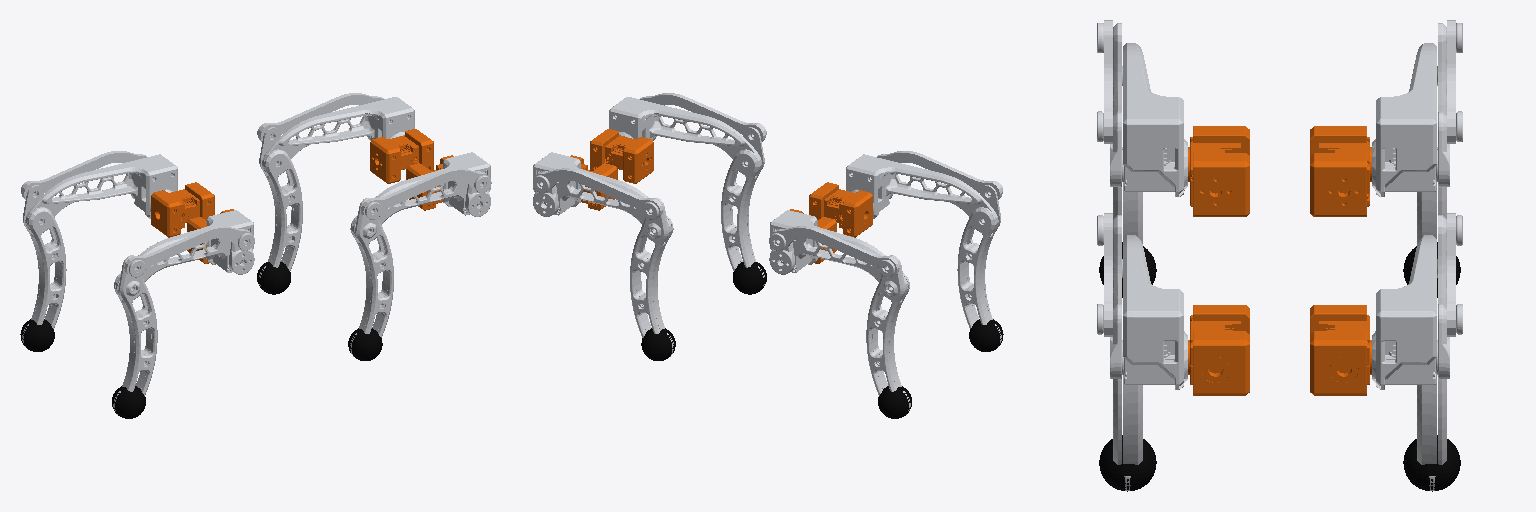
URDF robot description (micro_dog):
<?xml version="1.0"?>
<!-- micro_dog
     description:   Micro Dog quadruped, self-modelled parts inspired by Rhoban Microban (Dynamixel XL330-M288-T x12)
     source_cad:    전체.iam (Autodesk Inventor 2027)
     frame:         ROS/URDF convention: +X forward, +Y left, +Z up
     zero_pose:     CAD assembly pose = every servo at its centre (2048 ticks / 180 deg); thigh points straight back, shank points straight down
     knee_linkage:  parallelogram four-bar (crank 19.0 mm, pushrod 95.0 mm) -> exact 1:1 coupling, modelled as a single revolute joint like Go2
     generated by tools/generate_urdf.py - edit upstream sources, not this file
-->
<robot name="micro_dog">

  <material name="body_grey">   <color rgba="0.35 0.36 0.38 1.0"/></material>
  <material name="link_white">  <color rgba="0.85 0.86 0.88 1.0"/></material>
  <material name="joint_orange"><color rgba="0.90 0.45 0.10 1.0"/></material>
  <material name="foot_black">  <color rgba="0.08 0.08 0.08 1.0"/></material>

  <link name="base">
    <inertial>
      <origin xyz="-0.01785849 -0.00060131919 0.0060383162" rpy="0 0 0"/>
      <mass value="0.45564345"/>
      <inertia ixx="0.00034771271" ixy="6.2109414e-06" ixz="-2.8577858e-06" iyy="0.0011755026" iyz="3.1332265e-06" izz="0.0014109362"/>
    </inertial>
    <visual>
      <origin xyz="0 0 0" rpy="0 0 0"/>
      <geometry><mesh filename="../meshes/visual/base.stl" scale="1 1 1"/></geometry>
      <material name="body_grey"/>
    </visual>
    <collision>
      <origin xyz="-4.1633363e-17 -1.474515e-15 0.0075" rpy="0 0 0"/>
      <geometry><box size="0.247 0.09 0.048"/></geometry>
    </collision>
  </link>

  <link name="FL_hip">
    <inertial>
      <origin xyz="-0.0060982512 -0.00094346636 2.9601791e-06" rpy="0 0 0"/>
      <mass value="0.033571869"/>
      <inertia ixx="3.4319351e-06" ixy="-4.0159098e-08" ixz="7.2639564e-10" iyy="6.9371124e-06" iyz="-5.9486474e-10" izz="7.2473229e-06"/>
    </inertial>
    <visual>
      <origin xyz="0 0 0" rpy="0 0 0"/>
      <geometry><mesh filename="../meshes/visual/hip_fl.stl" scale="1 1 1"/></geometry>
      <material name="joint_orange"/>
    </visual>
    <collision>
      <origin xyz="-0.0075 -0.00049870437 7.4766582e-16" rpy="0 0 0"/>
      <geometry><box size="0.042 0.030002591 0.028"/></geometry>
    </collision>
  </link>

  <link name="FL_thigh">
    <inertial>
      <origin xyz="-0.022583808 -0.0043976799 0.012714785" rpy="0 0 0"/>
      <mass value="0.066755916"/>
      <inertia ixx="1.5608981e-05" ixy="1.0984717e-05" ixz="4.3227432e-06" iyy="8.8486759e-05" iyz="-2.734329e-06" izz="8.7026911e-05"/>
    </inertial>
    <visual>
      <origin xyz="0 0 0" rpy="0 0 0"/>
      <geometry><mesh filename="../meshes/visual/thigh_left.stl" scale="1 1 1"/></geometry>
      <material name="link_white"/>
    </visual>
    <collision>
      <origin xyz="-0.04574629 -0.0066758906 0.011587866" rpy="0 0 0"/>
      <geometry><box size="0.11950742 0.041251781 0.047218884"/></geometry>
    </collision>
  </link>

  <link name="FL_calf">
    <inertial>
      <origin xyz="0.0075692784 0.00036662655 -0.036778283" rpy="0 0 0"/>
      <mass value="0.023761353"/>
      <inertia ixx="1.9430988e-05" ixy="1.0332011e-07" ixz="2.4489248e-06" iyy="2.0373707e-05" iyz="-1.1094785e-06" izz="1.8307855e-06"/>
    </inertial>
    <visual>
      <origin xyz="0 0 0" rpy="0 0 0"/>
      <geometry><mesh filename="../meshes/visual/calf_left.stl" scale="1 1 1"/></geometry>
      <material name="link_white"/>
    </visual>
    <collision>
      <origin xyz="0.0046903639 0.003575 -0.027817675" rpy="0 0 0"/>
      <geometry><box size="0.035558253 0.0205 0.11236465"/></geometry>
    </collision>
  </link>

  <link name="FL_foot">
    <inertial>
      <origin xyz="0 0 0" rpy="0 0 0"/>
      <mass value="0.002"/>
      <inertia ixx="9.9541667e-08" ixy="0" ixz="0" iyy="1.69e-07" iyz="0" izz="9.9541667e-08"/>
    </inertial>
    <visual>
      <origin xyz="0 0 0" rpy="0 0 0"/>
      <geometry><sphere radius="0.013"/></geometry>
      <material name="foot_black"/>
    </visual>
    <collision>
      <origin xyz="0 0 0" rpy="0 0 0"/>
      <geometry><sphere radius="0.013"/></geometry>
    </collision>
  </link>

  <link name="FR_hip">
    <inertial>
      <origin xyz="-0.0060982512 0.00094346636 -2.9601791e-06" rpy="0 0 0"/>
      <mass value="0.033571869"/>
      <inertia ixx="3.4319351e-06" ixy="4.0159098e-08" ixz="-7.2639564e-10" iyy="6.9371124e-06" iyz="-5.9486474e-10" izz="7.2473229e-06"/>
    </inertial>
    <visual>
      <origin xyz="0 0 0" rpy="0 0 0"/>
      <geometry><mesh filename="../meshes/visual/hip_fr.stl" scale="1 1 1"/></geometry>
      <material name="joint_orange"/>
    </visual>
    <collision>
      <origin xyz="-0.0075 0.00049870437 7.0169565e-16" rpy="0 0 0"/>
      <geometry><box size="0.042 0.030002591 0.028"/></geometry>
    </collision>
  </link>

  <link name="FR_thigh">
    <inertial>
      <origin xyz="-0.022587077 0.0043976796 0.012714785" rpy="0 0 0"/>
      <mass value="0.066755916"/>
      <inertia ixx="1.5608981e-05" ixy="-1.0984638e-05" ixz="4.3228932e-06" iyy="8.8476908e-05" iyz="2.7343289e-06" izz="8.7017059e-05"/>
    </inertial>
    <visual>
      <origin xyz="0 0 0" rpy="0 0 0"/>
      <geometry><mesh filename="../meshes/visual/thigh_right.stl" scale="1 1 1"/></geometry>
      <material name="link_white"/>
    </visual>
    <collision>
      <origin xyz="-0.04574629 0.0066758906 0.011587866" rpy="0 0 0"/>
      <geometry><box size="0.11950742 0.041251781 0.047218884"/></geometry>
    </collision>
  </link>

  <link name="FR_calf">
    <inertial>
      <origin xyz="0.0075692784 -0.00079929557 -0.036778283" rpy="0 0 0"/>
      <mass value="0.023761353"/>
      <inertia ixx="1.9420544e-05" ixy="-1.1711718e-07" ixz="2.4489248e-06" iyy="2.0373707e-05" iyz="4.1382204e-07" izz="1.820341e-06"/>
    </inertial>
    <visual>
      <origin xyz="0 0 0" rpy="0 0 0"/>
      <geometry><mesh filename="../meshes/visual/calf_right.stl" scale="1 1 1"/></geometry>
      <material name="link_white"/>
    </visual>
    <collision>
      <origin xyz="0.0046903639 -0.003575 -0.027573846" rpy="0 0 0"/>
      <geometry><box size="0.035558253 0.0205 0.11285231"/></geometry>
    </collision>
  </link>

  <link name="FR_foot">
    <inertial>
      <origin xyz="0 0 0" rpy="0 0 0"/>
      <mass value="0.002"/>
      <inertia ixx="9.9541667e-08" ixy="0" ixz="0" iyy="1.69e-07" iyz="0" izz="9.9541667e-08"/>
    </inertial>
    <visual>
      <origin xyz="0 0 0" rpy="0 0 0"/>
      <geometry><sphere radius="0.013"/></geometry>
      <material name="foot_black"/>
    </visual>
    <collision>
      <origin xyz="0 0 0" rpy="0 0 0"/>
      <geometry><sphere radius="0.013"/></geometry>
    </collision>
  </link>

  <link name="RL_hip">
    <inertial>
      <origin xyz="0.0060982512 -0.00094346636 -2.9601791e-06" rpy="0 0 0"/>
      <mass value="0.033571869"/>
      <inertia ixx="3.4319351e-06" ixy="4.0159098e-08" ixz="7.2639564e-10" iyy="6.9371124e-06" iyz="5.9486474e-10" izz="7.2473229e-06"/>
    </inertial>
    <visual>
      <origin xyz="0 0 0" rpy="0 0 0"/>
      <geometry><mesh filename="../meshes/visual/hip_rl.stl" scale="1 1 1"/></geometry>
      <material name="joint_orange"/>
    </visual>
    <collision>
      <origin xyz="0.0075 -0.00049870437 3.4781206e-16" rpy="0 0 0"/>
      <geometry><box size="0.042 0.030002591 0.028"/></geometry>
    </collision>
  </link>

  <link name="RL_thigh">
    <inertial>
      <origin xyz="-0.022583808 -0.0043976799 0.012714785" rpy="0 0 0"/>
      <mass value="0.066755916"/>
      <inertia ixx="1.5608981e-05" ixy="1.0984717e-05" ixz="4.3227432e-06" iyy="8.8486759e-05" iyz="-2.734329e-06" izz="8.7026911e-05"/>
    </inertial>
    <visual>
      <origin xyz="0 0 0" rpy="0 0 0"/>
      <geometry><mesh filename="../meshes/visual/thigh_left.stl" scale="1 1 1"/></geometry>
      <material name="link_white"/>
    </visual>
    <collision>
      <origin xyz="-0.04574629 -0.0066758906 0.011587866" rpy="0 0 0"/>
      <geometry><box size="0.11950742 0.041251781 0.047218884"/></geometry>
    </collision>
  </link>

  <link name="RL_calf">
    <inertial>
      <origin xyz="0.0075692784 0.00036662655 -0.036778283" rpy="0 0 0"/>
      <mass value="0.023761353"/>
      <inertia ixx="1.9430988e-05" ixy="1.0332011e-07" ixz="2.4489248e-06" iyy="2.0373707e-05" iyz="-1.1094785e-06" izz="1.8307855e-06"/>
    </inertial>
    <visual>
      <origin xyz="0 0 0" rpy="0 0 0"/>
      <geometry><mesh filename="../meshes/visual/calf_left.stl" scale="1 1 1"/></geometry>
      <material name="link_white"/>
    </visual>
    <collision>
      <origin xyz="0.0046903639 0.003575 -0.027817675" rpy="0 0 0"/>
      <geometry><box size="0.035558253 0.0205 0.11236465"/></geometry>
    </collision>
  </link>

  <link name="RL_foot">
    <inertial>
      <origin xyz="0 0 0" rpy="0 0 0"/>
      <mass value="0.002"/>
      <inertia ixx="9.9541667e-08" ixy="0" ixz="0" iyy="1.69e-07" iyz="0" izz="9.9541667e-08"/>
    </inertial>
    <visual>
      <origin xyz="0 0 0" rpy="0 0 0"/>
      <geometry><sphere radius="0.013"/></geometry>
      <material name="foot_black"/>
    </visual>
    <collision>
      <origin xyz="0 0 0" rpy="0 0 0"/>
      <geometry><sphere radius="0.013"/></geometry>
    </collision>
  </link>

  <link name="RR_hip">
    <inertial>
      <origin xyz="0.0060982512 0.00094346636 2.9601791e-06" rpy="0 0 0"/>
      <mass value="0.033571869"/>
      <inertia ixx="3.4319351e-06" ixy="-4.0159098e-08" ixz="-7.2639564e-10" iyy="6.9371124e-06" iyz="5.9486474e-10" izz="7.2473229e-06"/>
    </inertial>
    <visual>
      <origin xyz="0 0 0" rpy="0 0 0"/>
      <geometry><mesh filename="../meshes/visual/hip_rr.stl" scale="1 1 1"/></geometry>
      <material name="joint_orange"/>
    </visual>
    <collision>
      <origin xyz="0.0075 0.00049870437 3.989864e-16" rpy="0 0 0"/>
      <geometry><box size="0.042 0.030002591 0.028"/></geometry>
    </collision>
  </link>

  <link name="RR_thigh">
    <inertial>
      <origin xyz="-0.022587077 0.0043976796 0.012714785" rpy="0 0 0"/>
      <mass value="0.066755916"/>
      <inertia ixx="1.5608981e-05" ixy="-1.0984638e-05" ixz="4.3228932e-06" iyy="8.8476908e-05" iyz="2.7343289e-06" izz="8.7017059e-05"/>
    </inertial>
    <visual>
      <origin xyz="0 0 0" rpy="0 0 0"/>
      <geometry><mesh filename="../meshes/visual/thigh_right.stl" scale="1 1 1"/></geometry>
      <material name="link_white"/>
    </visual>
    <collision>
      <origin xyz="-0.04574629 0.0066758906 0.011587866" rpy="0 0 0"/>
      <geometry><box size="0.11950742 0.041251781 0.047218884"/></geometry>
    </collision>
  </link>

  <link name="RR_calf">
    <inertial>
      <origin xyz="0.0075692784 -0.00079929557 -0.036778283" rpy="0 0 0"/>
      <mass value="0.023761353"/>
      <inertia ixx="1.9420544e-05" ixy="-1.1711718e-07" ixz="2.4489248e-06" iyy="2.0373707e-05" iyz="4.1382204e-07" izz="1.820341e-06"/>
    </inertial>
    <visual>
      <origin xyz="0 0 0" rpy="0 0 0"/>
      <geometry><mesh filename="../meshes/visual/calf_right.stl" scale="1 1 1"/></geometry>
      <material name="link_white"/>
    </visual>
    <collision>
      <origin xyz="0.0046903639 -0.003575 -0.027573846" rpy="0 0 0"/>
      <geometry><box size="0.035558253 0.0205 0.11285231"/></geometry>
    </collision>
  </link>

  <link name="RR_foot">
    <inertial>
      <origin xyz="0 0 0" rpy="0 0 0"/>
      <mass value="0.002"/>
      <inertia ixx="9.9541667e-08" ixy="0" ixz="0" iyy="1.69e-07" iyz="0" izz="9.9541667e-08"/>
    </inertial>
    <visual>
      <origin xyz="0 0 0" rpy="0 0 0"/>
      <geometry><sphere radius="0.013"/></geometry>
      <material name="foot_black"/>
    </visual>
    <collision>
      <origin xyz="0 0 0" rpy="0 0 0"/>
      <geometry><sphere radius="0.013"/></geometry>
    </collision>
  </link>

  <joint name="FL_hip_joint" type="revolute">
    <parent link="base"/>
    <child link="FL_hip"/>
    <origin xyz="0.103 0.029 0" rpy="0 0 0"/>
    <axis xyz="1 0 0"/>
    <limit lower="-1.5554565" upper="0.86056322" effort="0.64052362" velocity="20.217834"/>
    <dynamics damping="0.0053596683" friction="0.0047711832"/>
  </joint>

  <joint name="FL_thigh_joint" type="revolute">
    <parent link="FL_hip"/>
    <child link="FL_thigh"/>
    <origin xyz="0 0.0398 0" rpy="0 0 0"/>
    <axis xyz="0 1 0"/>
    <limit lower="-1.5278449" upper="0.85902924" effort="0.64052362" velocity="20.217834"/>
    <dynamics damping="0.0053596683" friction="0.0047711832"/>
  </joint>

  <joint name="FL_calf_joint" type="revolute">
    <parent link="FL_thigh"/>
    <child link="FL_calf"/>
    <origin xyz="-0.095 0 0" rpy="0 0 0"/>
    <axis xyz="0 1 0"/>
    <limit lower="-1.1013982" upper="1.2072429" effort="0.64052362" velocity="20.217834"/>
    <dynamics damping="0.0053596683" friction="0.0047711832"/>
  </joint>

  <joint name="FL_foot_joint" type="fixed">
    <parent link="FL_calf"/>
    <child link="FL_foot"/>
    <origin xyz="0 0 -0.097" rpy="0 0 0"/>
  </joint>

  <joint name="FR_hip_joint" type="revolute">
    <parent link="base"/>
    <child link="FR_hip"/>
    <origin xyz="0.103 -0.029 0" rpy="0 0 0"/>
    <axis xyz="1 0 0"/>
    <limit lower="-0.86056322" upper="1.5554565" effort="0.64052362" velocity="20.217834"/>
    <dynamics damping="0.0053596683" friction="0.0047711832"/>
  </joint>

  <joint name="FR_thigh_joint" type="revolute">
    <parent link="FR_hip"/>
    <child link="FR_thigh"/>
    <origin xyz="0 -0.0398 0" rpy="0 0 0"/>
    <axis xyz="0 1 0"/>
    <limit lower="-1.5278449" upper="0.85902924" effort="0.64052362" velocity="20.217834"/>
    <dynamics damping="0.0053596683" friction="0.0047711832"/>
  </joint>

  <joint name="FR_calf_joint" type="revolute">
    <parent link="FR_thigh"/>
    <child link="FR_calf"/>
    <origin xyz="-0.095 0 0" rpy="0 0 0"/>
    <axis xyz="0 1 0"/>
    <limit lower="-1.1013982" upper="1.2072429" effort="0.64052362" velocity="20.217834"/>
    <dynamics damping="0.0053596683" friction="0.0047711832"/>
  </joint>

  <joint name="FR_foot_joint" type="fixed">
    <parent link="FR_calf"/>
    <child link="FR_foot"/>
    <origin xyz="0 0 -0.097" rpy="0 0 0"/>
  </joint>

  <joint name="RL_hip_joint" type="revolute">
    <parent link="base"/>
    <child link="RL_hip"/>
    <origin xyz="-0.103 0.029 0" rpy="0 0 0"/>
    <axis xyz="1 0 0"/>
    <limit lower="-1.5554565" upper="0.86056322" effort="0.64052362" velocity="20.217834"/>
    <dynamics damping="0.0053596683" friction="0.0047711832"/>
  </joint>

  <joint name="RL_thigh_joint" type="revolute">
    <parent link="RL_hip"/>
    <child link="RL_thigh"/>
    <origin xyz="0 0.0398 0" rpy="0 0 0"/>
    <axis xyz="0 1 0"/>
    <limit lower="-1.5278449" upper="0.85902924" effort="0.64052362" velocity="20.217834"/>
    <dynamics damping="0.0053596683" friction="0.0047711832"/>
  </joint>

  <joint name="RL_calf_joint" type="revolute">
    <parent link="RL_thigh"/>
    <child link="RL_calf"/>
    <origin xyz="-0.095 0 0" rpy="0 0 0"/>
    <axis xyz="0 1 0"/>
    <limit lower="-1.1013982" upper="1.2072429" effort="0.64052362" velocity="20.217834"/>
    <dynamics damping="0.0053596683" friction="0.0047711832"/>
  </joint>

  <joint name="RL_foot_joint" type="fixed">
    <parent link="RL_calf"/>
    <child link="RL_foot"/>
    <origin xyz="0 0 -0.097" rpy="0 0 0"/>
  </joint>

  <joint name="RR_hip_joint" type="revolute">
    <parent link="base"/>
    <child link="RR_hip"/>
    <origin xyz="-0.103 -0.029 0" rpy="0 0 0"/>
    <axis xyz="1 0 0"/>
    <limit lower="-0.86056322" upper="1.5554565" effort="0.64052362" velocity="20.217834"/>
    <dynamics damping="0.0053596683" friction="0.0047711832"/>
  </joint>

  <joint name="RR_thigh_joint" type="revolute">
    <parent link="RR_hip"/>
    <child link="RR_thigh"/>
    <origin xyz="0 -0.0398 0" rpy="0 0 0"/>
    <axis xyz="0 1 0"/>
    <limit lower="-1.5278449" upper="0.85902924" effort="0.64052362" velocity="20.217834"/>
    <dynamics damping="0.0053596683" friction="0.0047711832"/>
  </joint>

  <joint name="RR_calf_joint" type="revolute">
    <parent link="RR_thigh"/>
    <child link="RR_calf"/>
    <origin xyz="-0.095 0 0" rpy="0 0 0"/>
    <axis xyz="0 1 0"/>
    <limit lower="-1.1013982" upper="1.2072429" effort="0.64052362" velocity="20.217834"/>
    <dynamics damping="0.0053596683" friction="0.0047711832"/>
  </joint>

  <joint name="RR_foot_joint" type="fixed">
    <parent link="RR_calf"/>
    <child link="RR_foot"/>
    <origin xyz="0 0 -0.097" rpy="0 0 0"/>
  </joint>

</robot>

--- Facts derived from the render (not from the file) ---
Views: 3 orthographic renders of the robot side by side, from view 1: azimuth 30°, elevation 25°; view 2: azimuth 150°, elevation 25°; view 3: azimuth 270°, elevation 25°.
Model micro_dog with 17 links and 16 joints (12 revolute, 4 fixed), rooted at base, posed all joints at 0.
Visible links, largest first — view 1: RL_thigh, FL_thigh, FR_thigh, RR_thigh, FL_calf, RL_calf, FR_calf, RR_calf, FL_hip, RL_hip, FL_foot, RL_foot (+2 smaller); view 2: RR_thigh, FR_thigh, FL_thigh, RL_thigh, FR_calf, FL_calf, RR_calf, RL_calf, FR_hip, RR_hip, FR_foot, RR_foot (+2 smaller); view 3: FL_thigh, FR_thigh, RL_thigh, RR_thigh, FL_hip, FR_hip, RL_hip, RR_hip, FL_calf, FR_calf, RL_calf, RR_calf (+2 smaller).
Boxes of the visible links, x1,y1,x2,y2 form: RL_thigh: (21,151,177,229); FL_thigh: (258,93,414,171); FR_thigh: (352,152,491,237); RR_thigh: (115,210,254,294); FL_calf: (257,123,302,290); RL_calf: (21,181,66,346); FR_calf: (350,198,393,356); RR_calf: (113,255,157,414); FL_hip: (370,129,433,183); RL_hip: (151,182,214,237); FL_foot: (257,262,290,294); RL_foot: (20,319,54,351); RR_thigh: (846,151,1002,229); FR_thigh: (609,93,765,171); FL_thigh: (533,152,671,237); RL_thigh: (769,210,908,294); FR_calf: (721,123,766,290); FL_calf: (630,198,673,356); RR_calf: (957,181,1002,346); RL_calf: (866,255,910,414); FR_hip: (590,129,653,183); RR_hip: (809,182,872,237); FR_foot: (733,262,766,294); RR_foot: (969,319,1003,351); FL_thigh: (1372,213,1462,389); FR_thigh: (1097,213,1187,389); RL_thigh: (1372,20,1462,196); RR_thigh: (1097,20,1187,196); FL_hip: (1310,305,1371,395); FR_hip: (1188,305,1249,395); RL_hip: (1310,126,1371,216); RR_hip: (1188,126,1249,216); FL_calf: (1417,215,1462,490); FR_calf: (1097,215,1142,490); RL_calf: (1417,23,1462,243); RR_calf: (1097,23,1142,243).
Size in the robot's own frame: 0.328 by 0.1655 by 0.1452 metres.
Meshes: 9 distinct files referenced, 12 mesh visuals loaded (8 binary STL); not drawn: 1 (reference not matched to a file when rendering).
